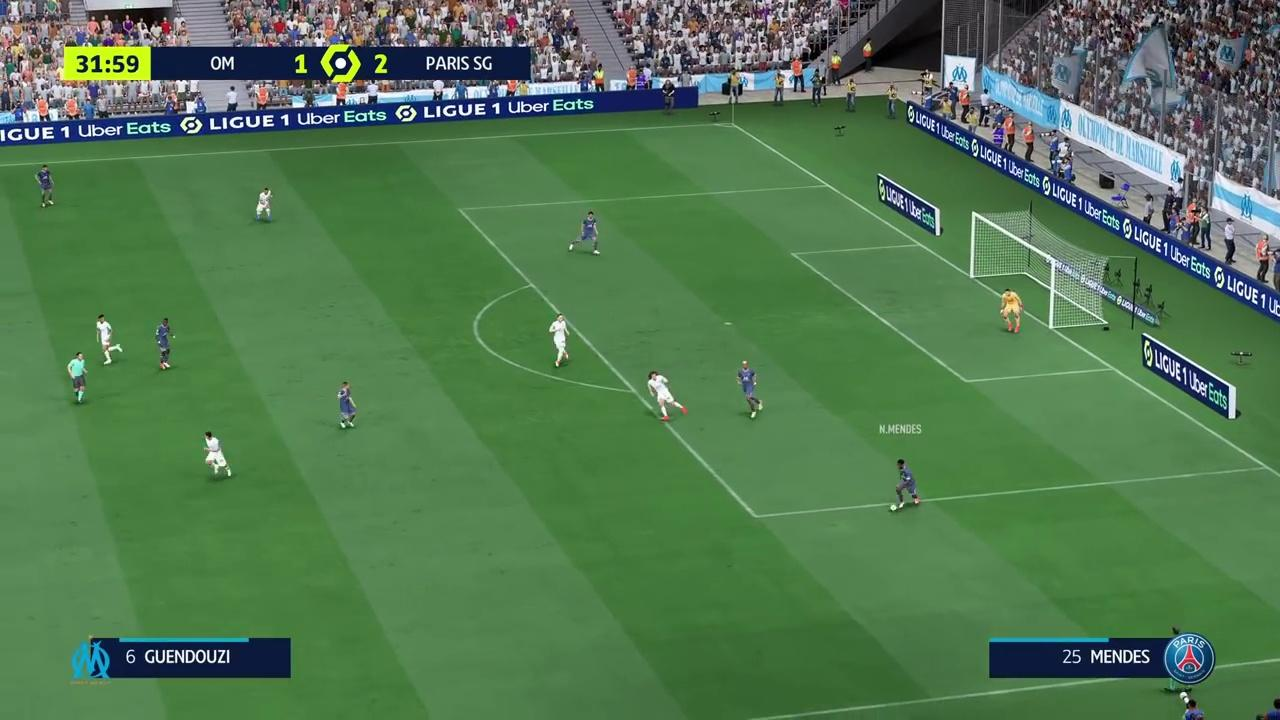scoreboard: (155, 51, 529, 78)
timestamp: (64, 47, 152, 79)
